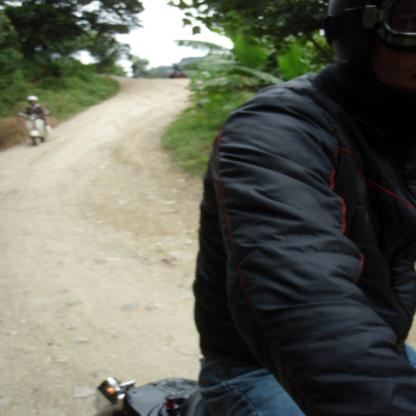Helmet: (320, 0, 416, 102)
